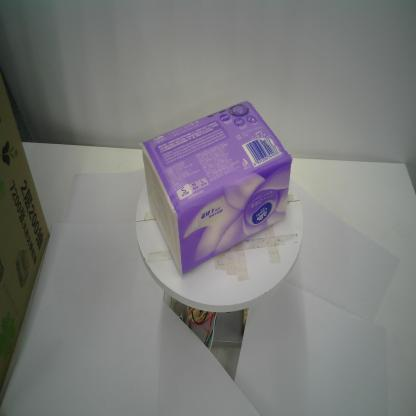Tissue: (139, 98, 292, 279)
